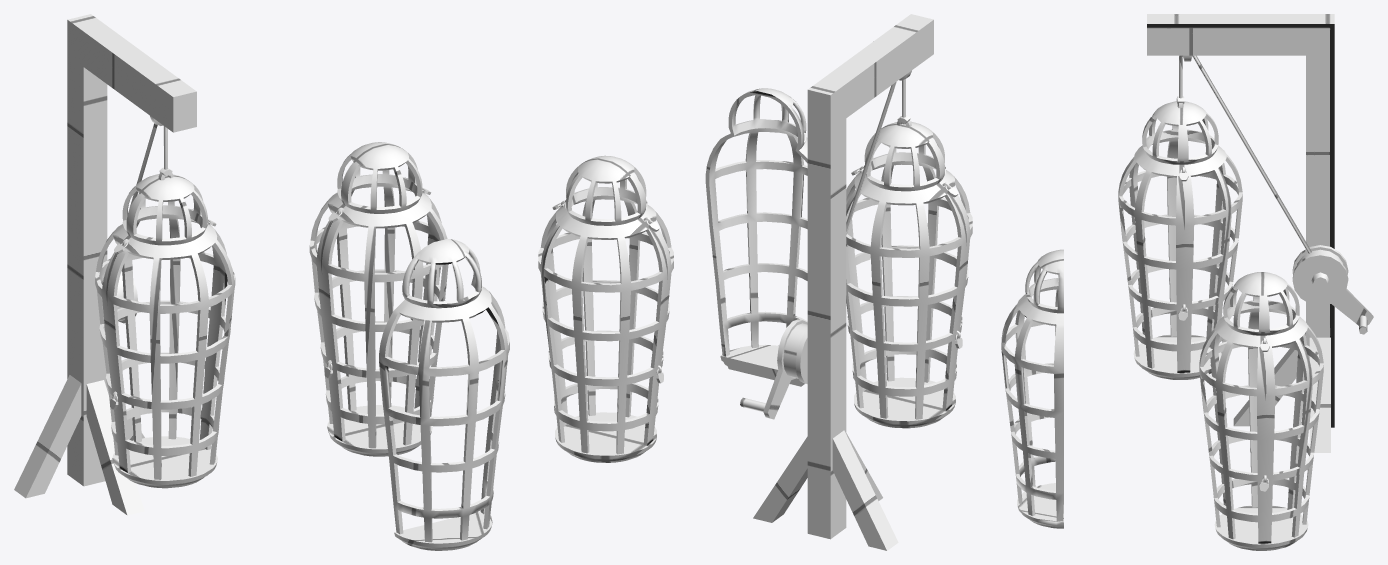
File: Hanging Jail.FBX
3 renders of one model, left to right at view 1: azimuth 30°, elevation 25°; view 2: azimuth 150°, elevation 25°; view 3: azimuth 270°, elevation 25°, orthographic. The views are drawn at different scales.
Visible parts, largest first — view 1: Cylinder014, Object004, Object003; view 2: Cylinder014, Object004, Object003; view 3: Cylinder014, Object004, Object003.
Part boxes in pixels (left/top/right/bottom): Cylinder014: left=14, top=14, right=235, bottom=515; Object004: left=309, top=142, right=448, bottom=456; Object003: left=379, top=239, right=509, bottom=550; Cylinder014: left=740, top=14, right=972, bottom=550; Object004: left=538, top=155, right=673, bottom=462; Object003: left=705, top=88, right=807, bottom=386; Cylinder014: left=1118, top=14, right=1373, bottom=452; Object004: left=1199, top=272, right=1323, bottom=550; Object003: left=1001, top=249, right=1063, bottom=528.
Bounding box in the file's own units: 222 × 249 × 208.
